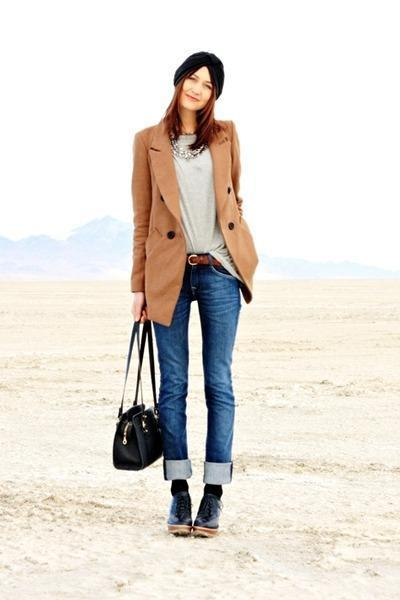bag: (113, 324, 167, 470)
jacket: (131, 119, 258, 347)
pants: (134, 253, 251, 491)
shirt: (172, 132, 228, 269)
shoe: (167, 479, 222, 538)
